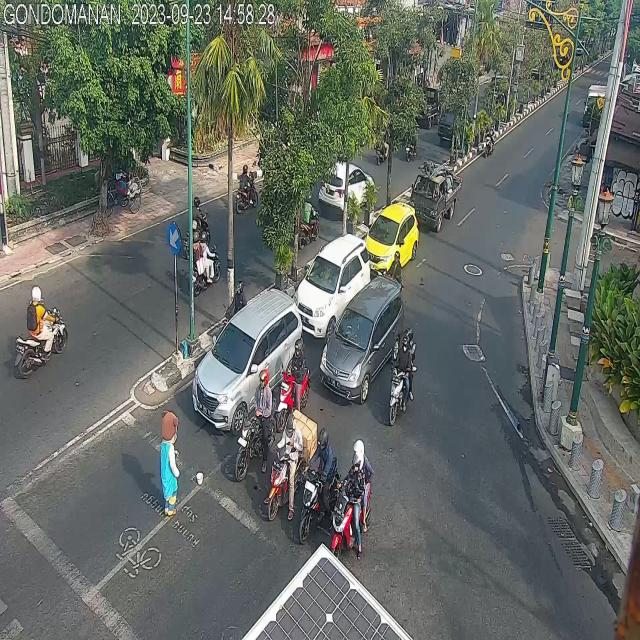car: (190, 292, 304, 438), (322, 276, 405, 407), (292, 232, 370, 338), (364, 205, 422, 287), (316, 165, 378, 216)
motorcycle: (331, 431, 372, 561), (234, 364, 276, 480), (18, 279, 70, 371), (266, 405, 304, 518), (276, 342, 309, 428), (389, 329, 416, 429), (186, 226, 221, 290), (184, 190, 212, 264), (234, 162, 259, 220), (298, 190, 320, 241)
truck: (409, 169, 462, 228)
